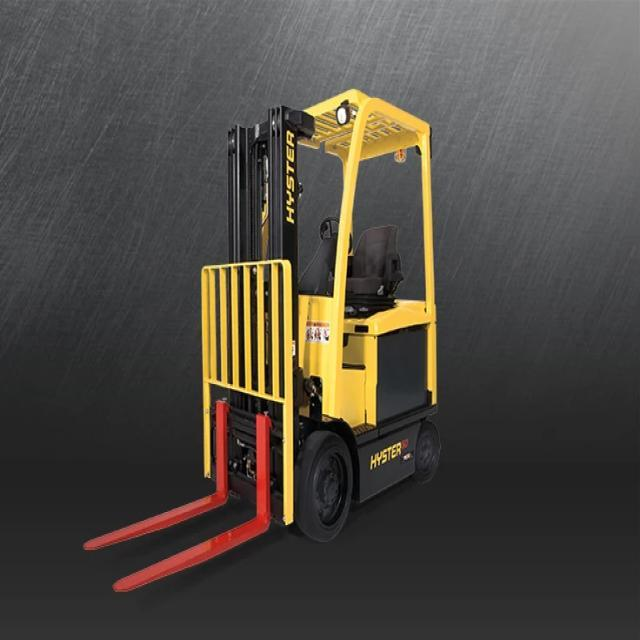forklift: (197, 57, 442, 550)
